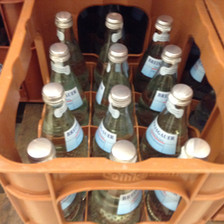water: (38, 81, 88, 156), (144, 84, 192, 157), (90, 84, 137, 156), (136, 45, 181, 119), (92, 42, 133, 123), (46, 42, 87, 117)
